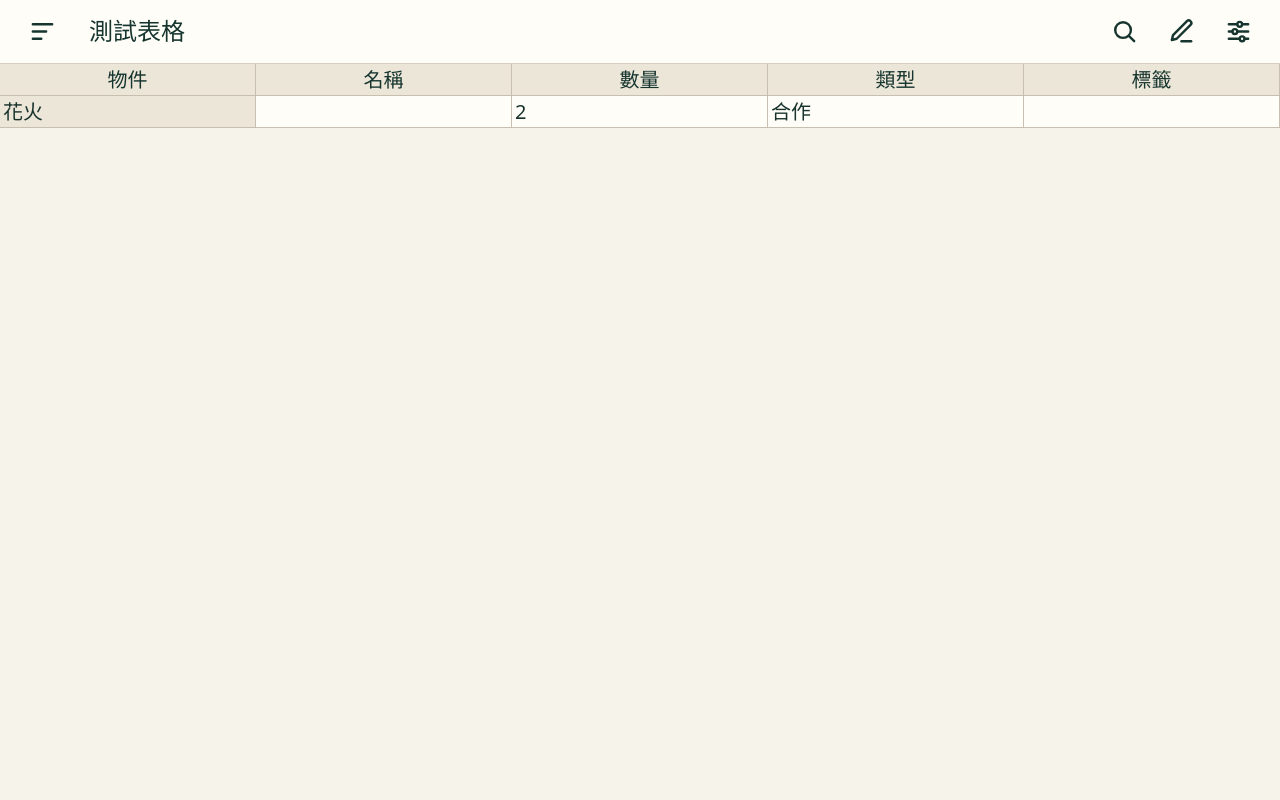
Test case: WorkspacePage.navigation › saves a column text alignment and applies it to its cells
Click the column heading "名稱".
click(384, 80)  # box [256,64,512,96]
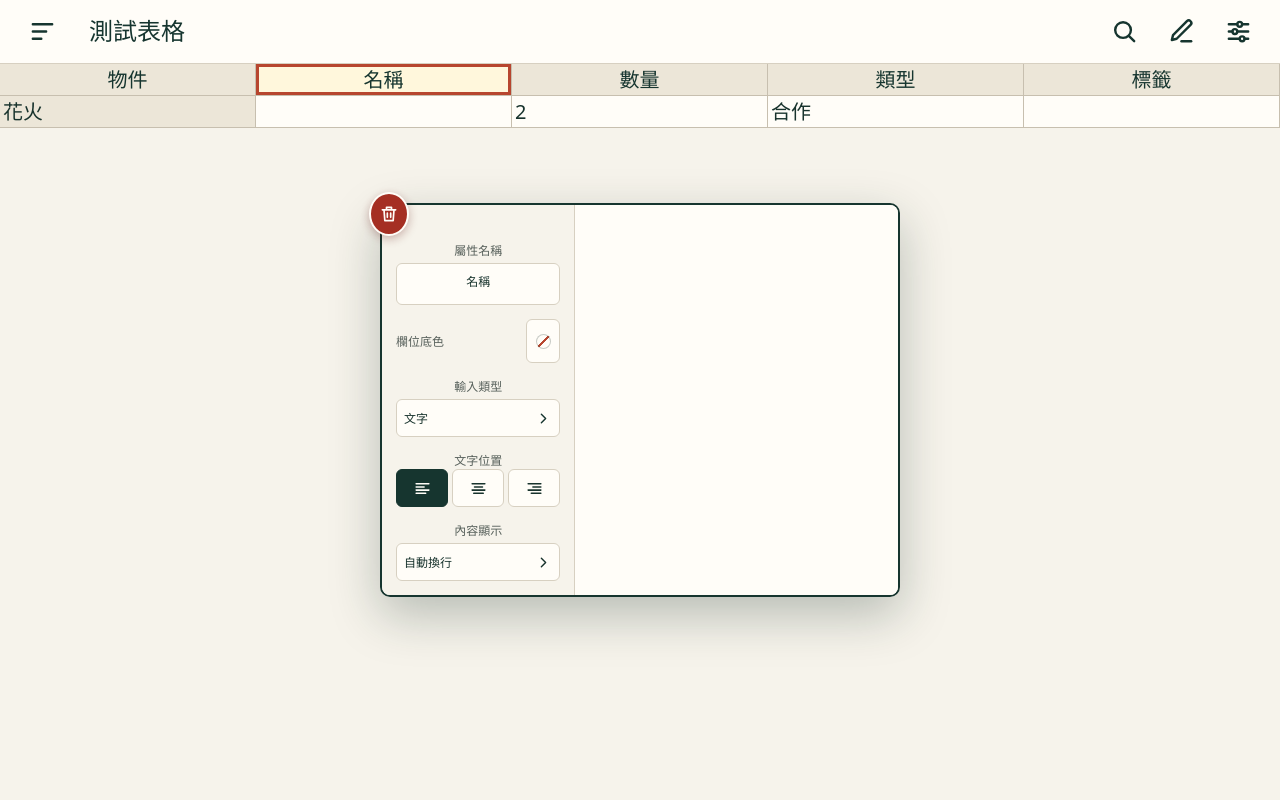
Click the button named "置右".
click(534, 488)  # box [508,469,560,507]
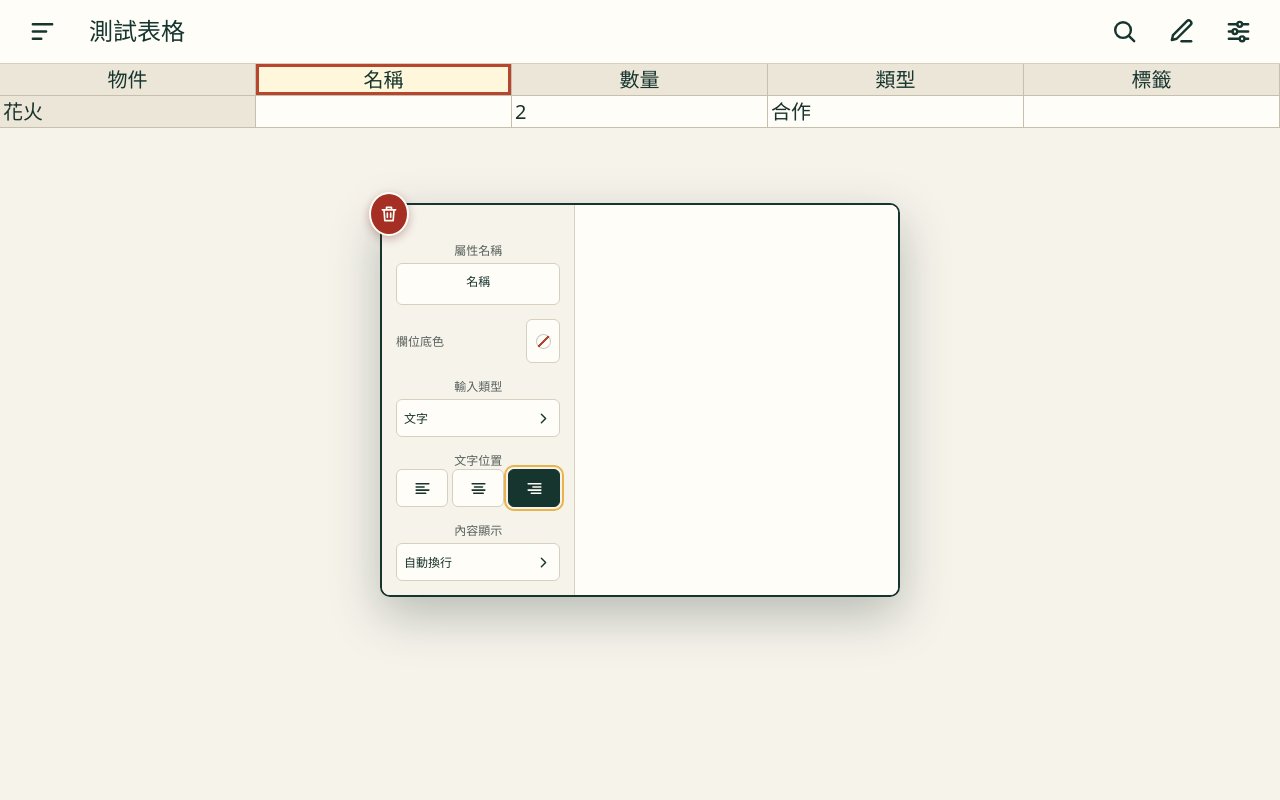
Click the element with class "workspace-column-dialog-overlay".
click(640, 400)  # box [380,203,900,597]
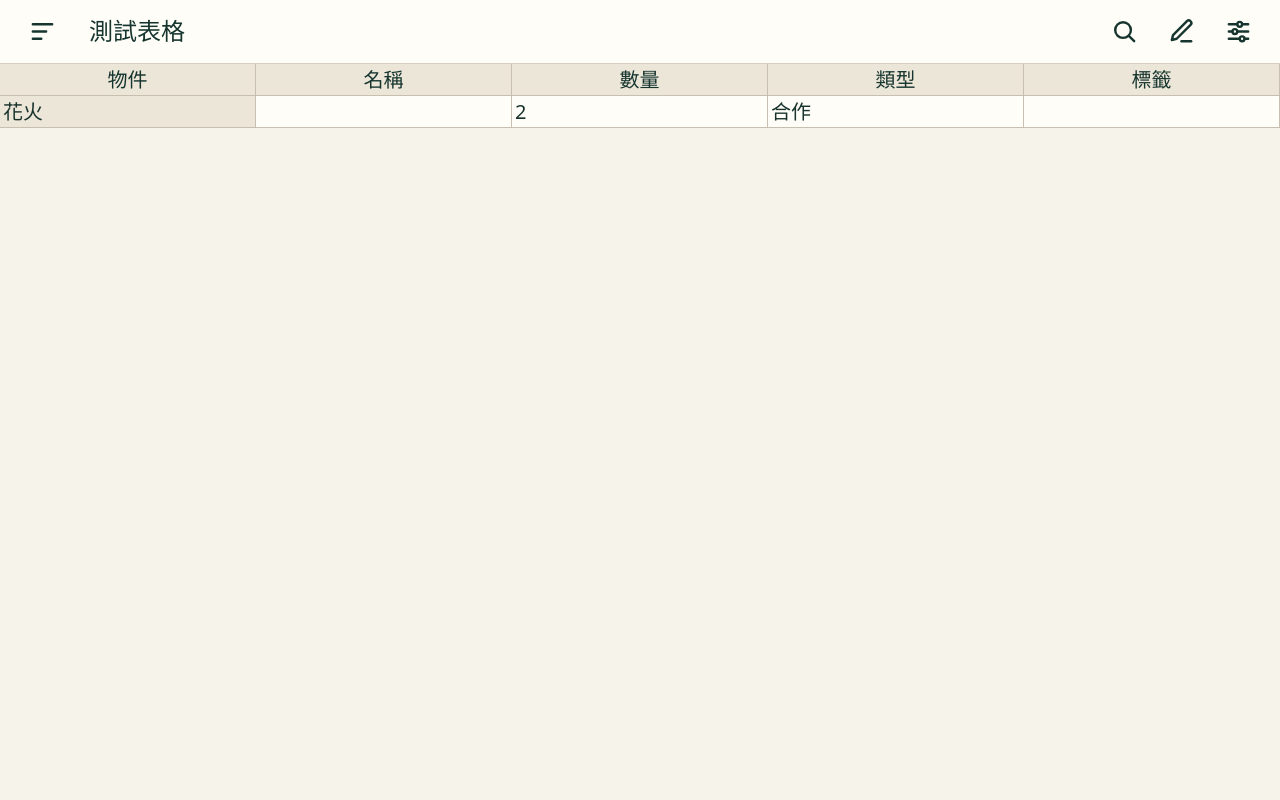
Now the element with class "workspace-column-dialog-overlay" is gone
